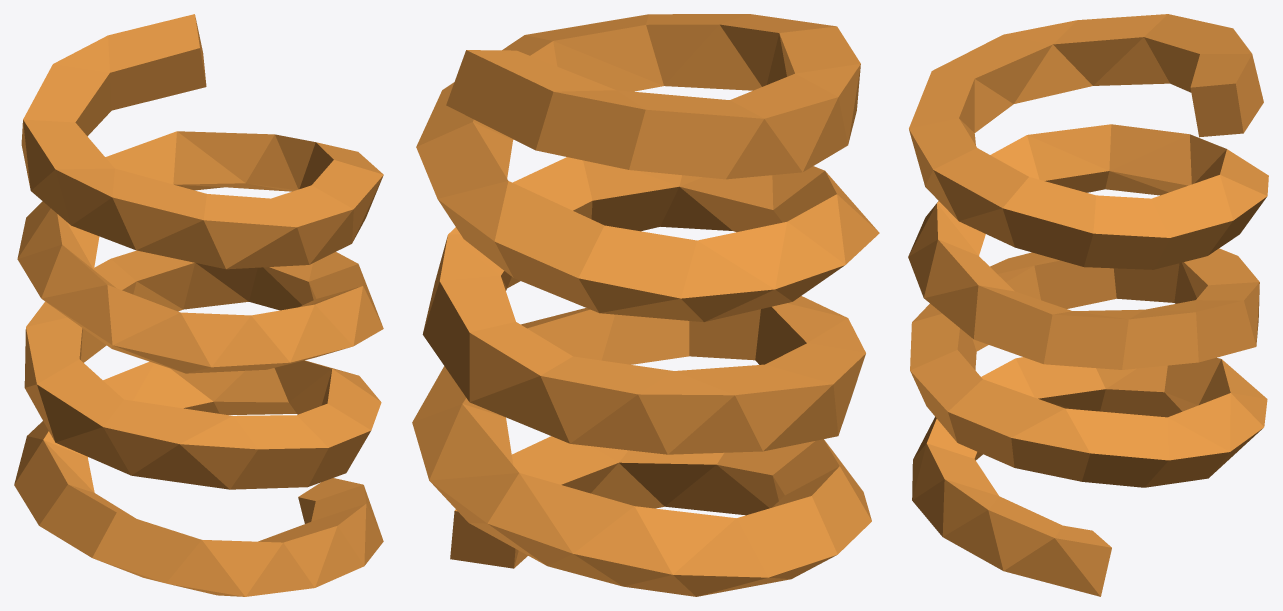
Rendered from Wire_Item.fbx.
3 renders of one model, left to right at view 1: azimuth 30°, elevation 25°; view 2: azimuth 150°, elevation 25°; view 3: azimuth 270°, elevation 25°, orthographic. The views are drawn at different scales.
Visible parts, largest first — view 1: Cube; view 2: Cube; view 3: Cube.
Boxes of the visible parts, box(x1,y1,x2,y2) form: Cube: box(14, 14, 383, 596); Cube: box(412, 14, 879, 596); Cube: box(908, 14, 1268, 596).
Size of the model in its own units: 79.57 by 114 by 78.38.
